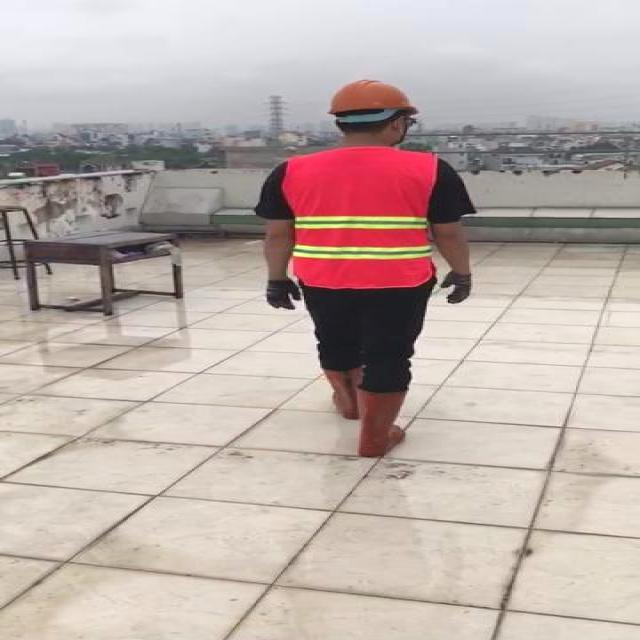boots: (357, 386, 411, 456), (322, 364, 366, 421)
hand_glove: (441, 271, 475, 305), (265, 280, 300, 311)
head_helmet: (324, 75, 426, 116)
person: (247, 72, 487, 457)
vest: (284, 147, 441, 286)
